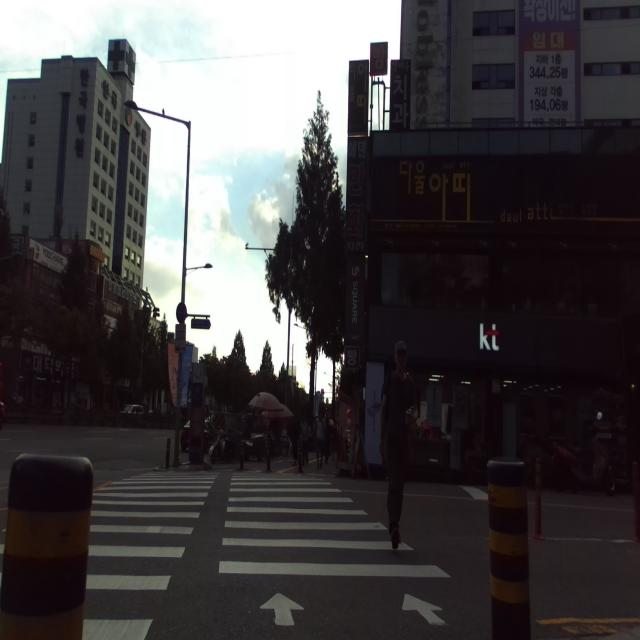횡단보도: (0, 468, 450, 640)
